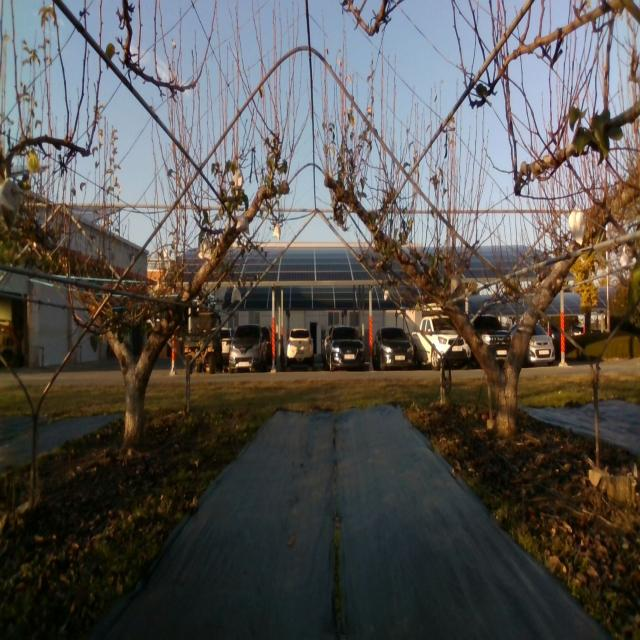pearbags: (0, 176, 21, 232), (568, 207, 586, 248), (198, 237, 212, 260), (237, 212, 250, 235), (234, 167, 244, 190), (451, 275, 461, 294)
